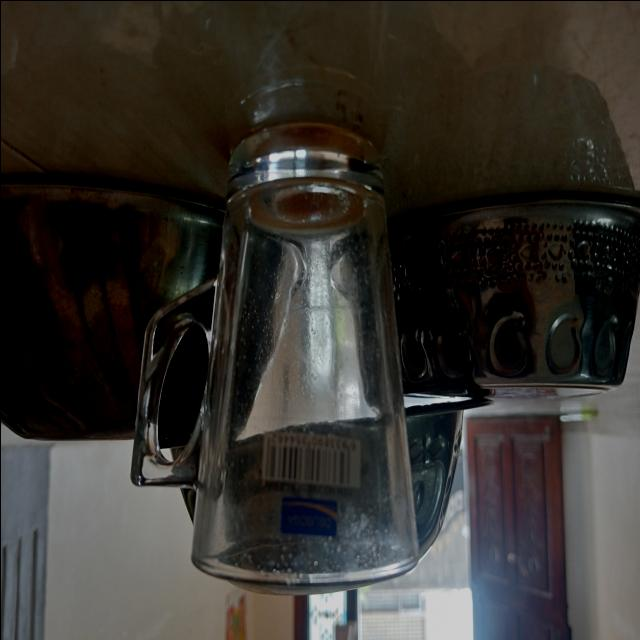glass-VX4N: (132, 131, 418, 595)
